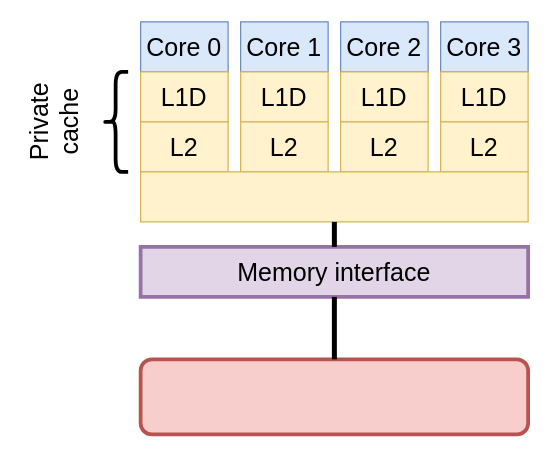
Image size: 551x458. Some labels were removed from this diagram. Each missing label, with the box of its shape:
Memory: (138, 357, 529, 436)
Shared L3 Cache: (139, 171, 528, 222)
